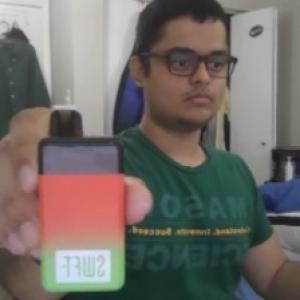Swift-E-Ciggirate: (35, 102, 143, 295)
